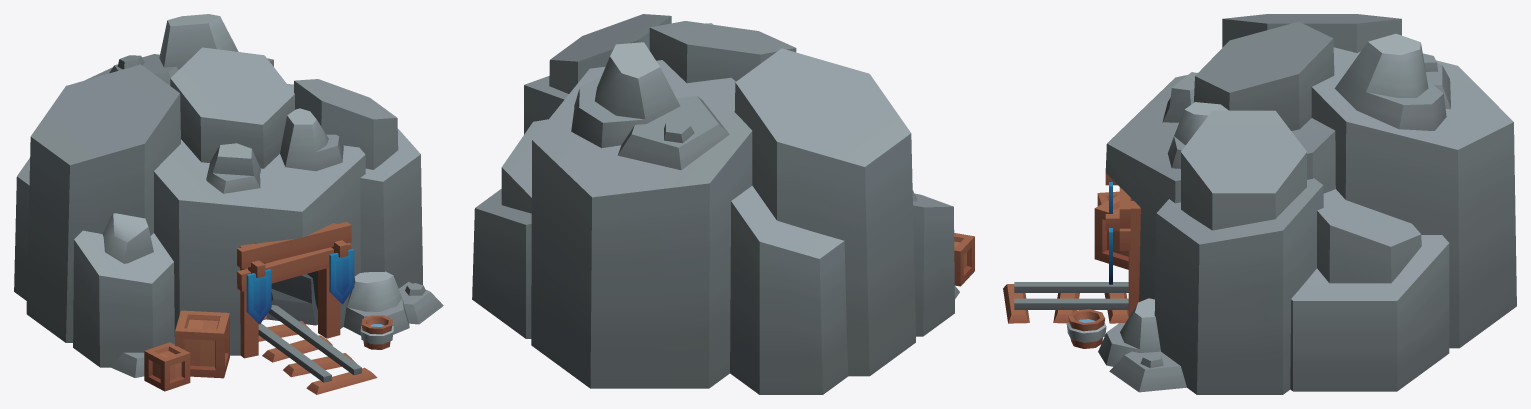
File: kay-mina.gltf
The picture shows the model from 3 angles, left to right: view 1: azimuth 30°, elevation 25°; view 2: azimuth 150°, elevation 25°; view 3: azimuth 270°, elevation 25°; orthographic projection. The views are drawn at different scales.
Parts seen in each view (by area): view 1: building_mine_blue; view 2: building_mine_blue; view 3: building_mine_blue.
Boxes of the visible parts, x1=… form: building_mine_blue: x1=14, y1=14, x2=443, y2=394; building_mine_blue: x1=472, y1=14, x2=974, y2=394; building_mine_blue: x1=1003, y1=14, x2=1516, y2=394.
Bounding box in the file's own units: 8.03 × 5.68 × 9.6.
1 material, 1 textured.
